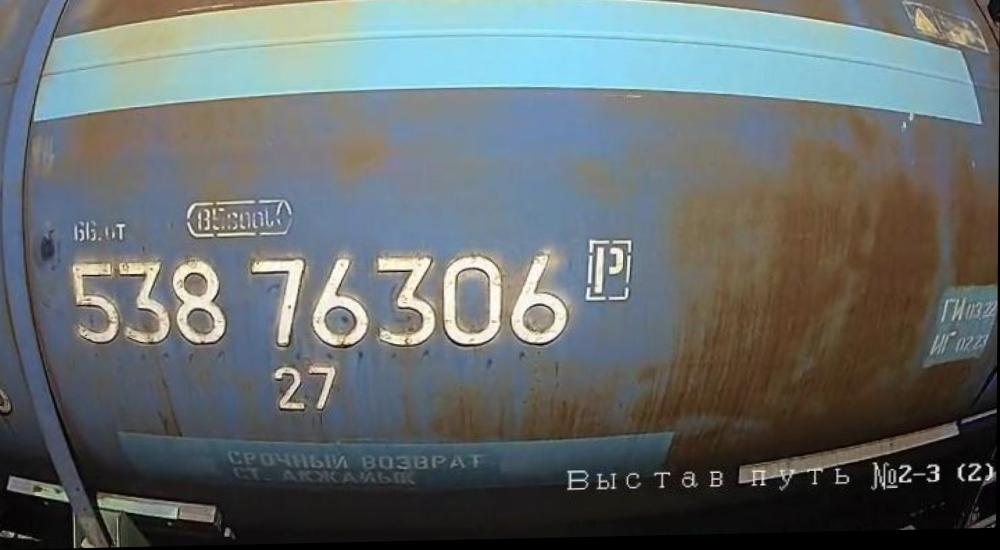Wagon-number: (66, 249, 575, 361)
